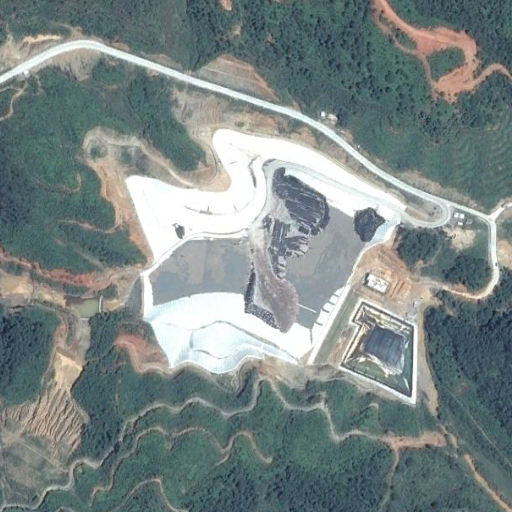lf: (125, 130, 400, 374)
